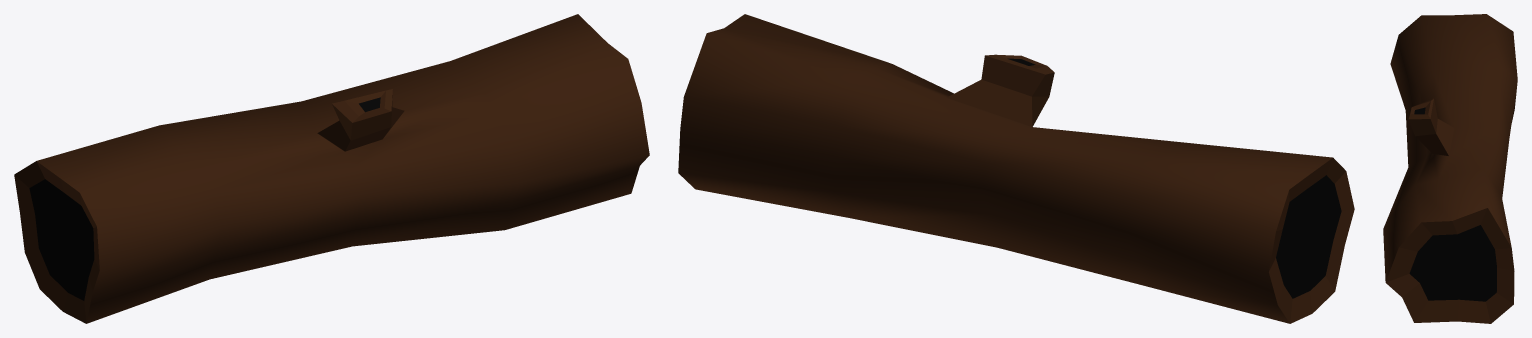
Rendered from Tree_Log_2.fbx.
The picture shows the model from 3 angles, left to right: view 1: azimuth 30°, elevation 25°; view 2: azimuth 150°, elevation 25°; view 3: azimuth 270°, elevation 25°; orthographic projection. The views are drawn at different scales.
Visible parts, largest first — view 1: Tree Log 2; view 2: Tree Log 2; view 3: Tree Log 2.
Part boxes in pixels (<box>): Tree Log 2: <box>14,14,649,323</box>; Tree Log 2: <box>678,14,1354,323</box>; Tree Log 2: <box>1383,14,1517,323</box>.
Bounding box in the file's own units: 803 × 215 × 217.
